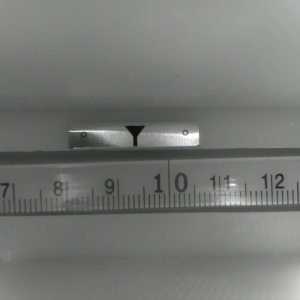0: (174, 172, 187, 192)
1: (153, 173, 162, 193), (261, 173, 267, 189), (226, 176, 232, 189), (210, 175, 215, 190)
2: (274, 173, 284, 189)
7: (0, 182, 10, 198)
8: (52, 180, 62, 195)
9: (104, 178, 114, 194)
finger: (123, 125, 145, 147)
